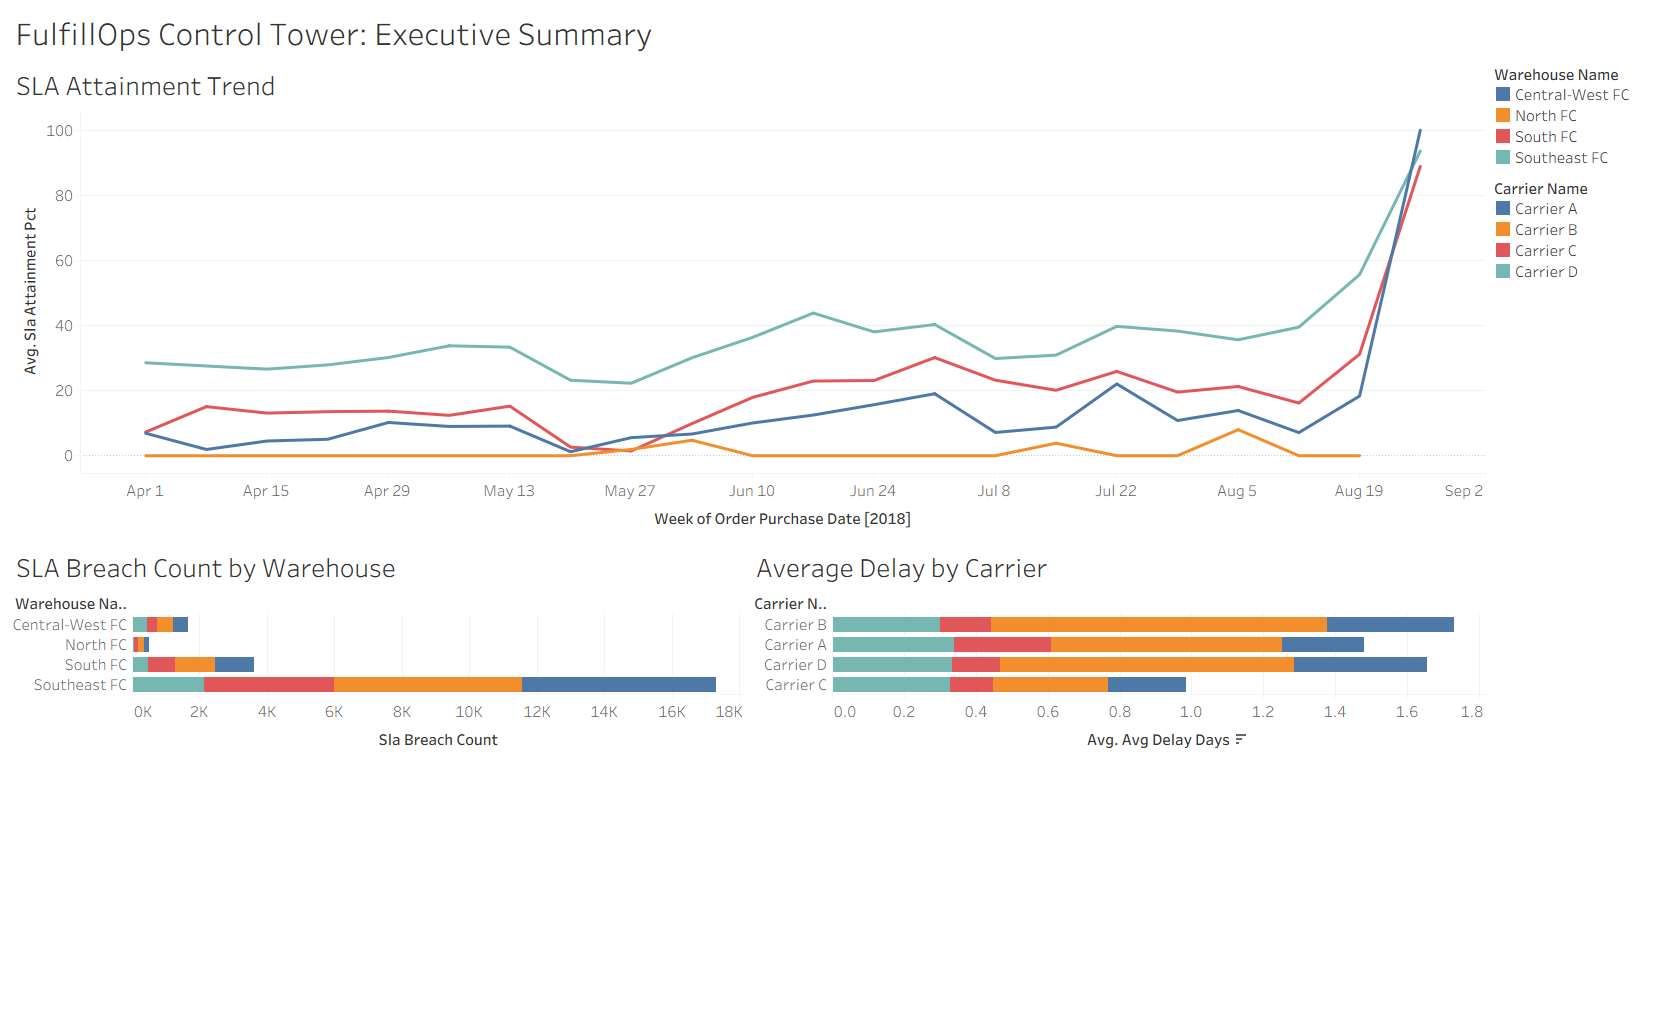

What the dashboard file says about the page in this screenshot:
{"tool":"tableau","page":{"name":"Executive Summary","canvas":[1000,1000],"units":"permille","ordinal":0},"visuals":[{"type":"title","box":[4.8,7.8,990.3,48.5]},{"type":"worksheet","title":"SLA Attainment Trend","mark":"Line","rows":["sla_attainment_pct"],"cols":["order_purchase_date"],"box":[4.8,56.3,893.8,468]},{"type":"legend","title":"SLA Attainment Trend","param":"[federated.0fdh75u01divbn101jrlt17imxsf].[none:warehouse_name:nk]","box":[898.6,56.3,96.6,110.6]},{"type":"legend","title":"SLA Breach Count by Warehouse","param":"[federated.0fdh75u01divbn101jrlt17imxsf].[none:carrier_name:nk]","box":[898.6,166.8,96.6,110.6]},{"type":"worksheet","title":"SLA Breach Count by Warehouse","mark":"Automatic","rows":["warehouse_name"],"cols":["sla_breach_count"],"box":[4.8,524.2,446.9,468]},{"type":"worksheet","title":"Average Delay by Carrier","mark":"Automatic","rows":["carrier_name"],"cols":["avg_delay_days"],"box":[451.7,524.2,446.9,468]}]}

Visuals, with their boxes on the dashboard's canvas, which has no fixed pixel size, in thousandths of its width and height (x1, y1, x2, y2). These are canvas units, not pixel positions in the 1657x1031 screenshot, which may show the page scaled, cropped or inside an application window:
title: x1=5 y1=8 x2=995 y2=56
"SLA Attainment Trend" worksheet (Line marks): x1=5 y1=56 x2=899 y2=524
"SLA Attainment Trend" legend: x1=899 y1=56 x2=995 y2=167
"SLA Breach Count by Warehouse" legend: x1=899 y1=167 x2=995 y2=277
"SLA Breach Count by Warehouse" worksheet: x1=5 y1=524 x2=452 y2=992
"Average Delay by Carrier" worksheet: x1=452 y1=524 x2=899 y2=992
